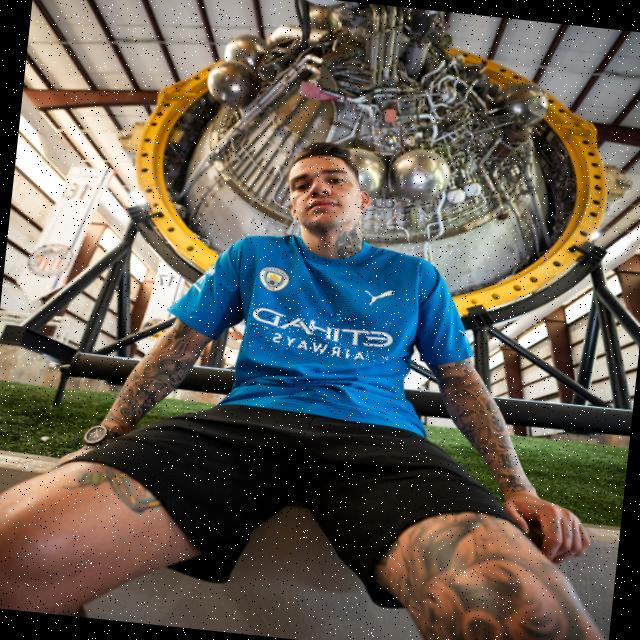Etihad Airways: (247, 305, 394, 364)
Puma: (363, 288, 395, 309)
